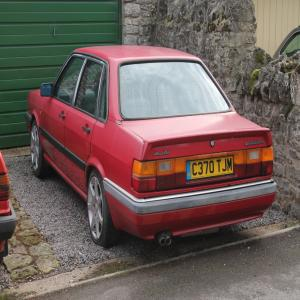Vehicle-registration-plate: (186, 147, 224, 204)
